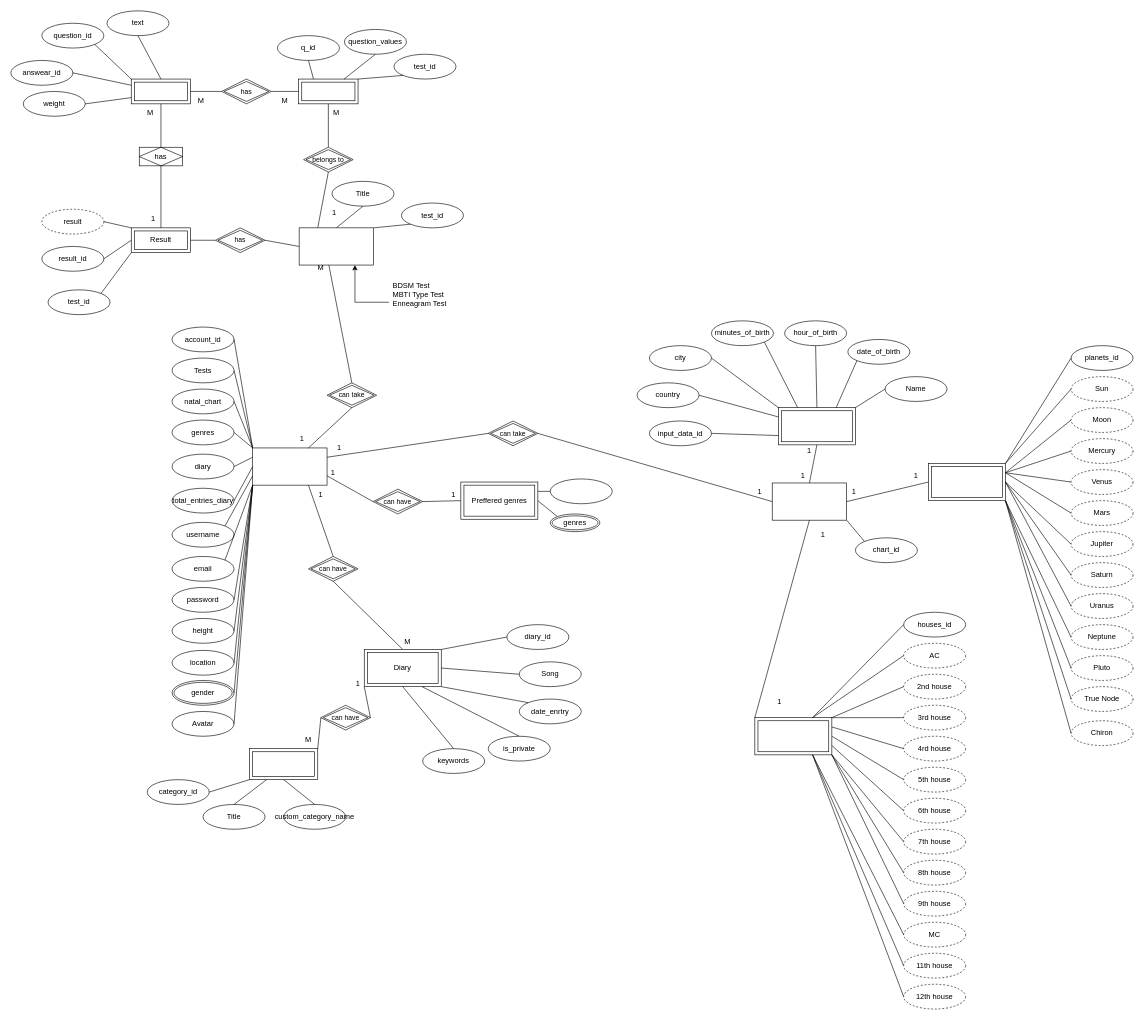
Image size: 1144x1020. Some labels were removed from this diagram. Here are the shapes that lost their labels. From the top down, the centre of each, then its label:
(x=161, y=91): Answears
(x=328, y=91): Questions
(x=336, y=246): Test
(x=816, y=426): Input data
(x=289, y=466): Account
(x=966, y=482): Planets
(x=581, y=491): genres_id
(x=809, y=501): Natal Chart
(x=793, y=736): Houses
(x=283, y=764): Category
